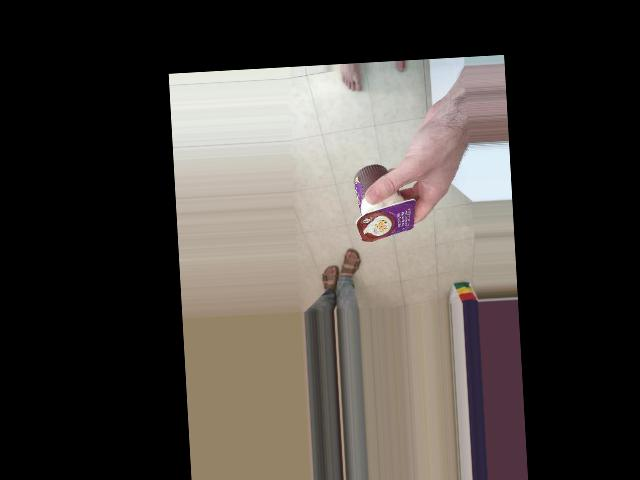milky: (352, 162, 404, 246)
